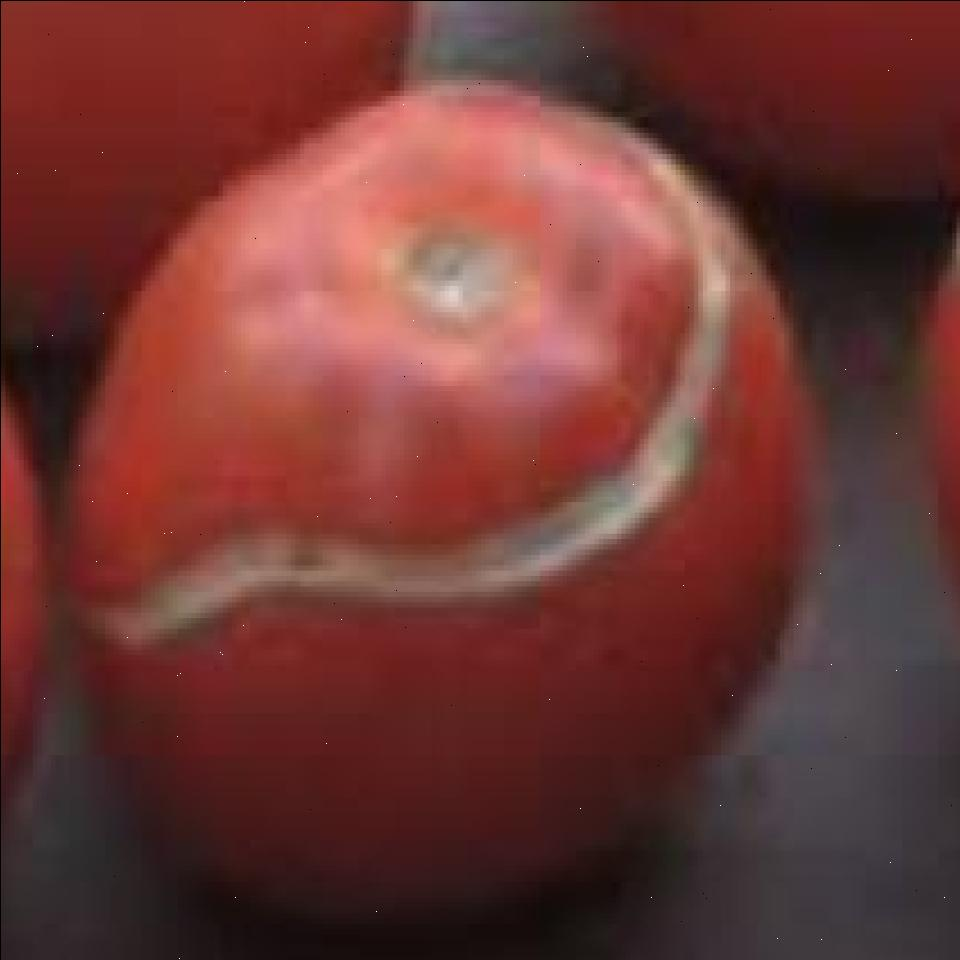Cracking: (89, 70, 754, 680)
